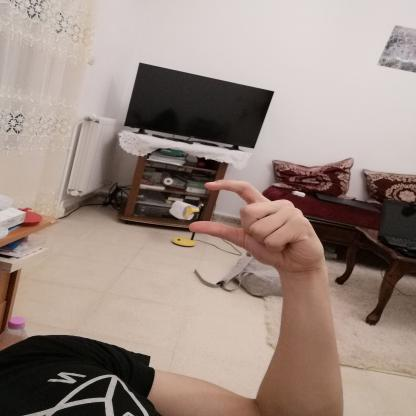DELL: (180, 172, 335, 278)
